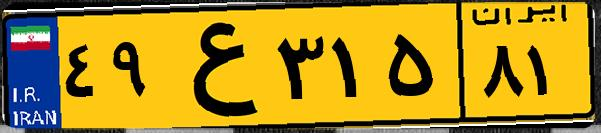1: (330, 28, 385, 110), (525, 38, 570, 115)
3: (270, 28, 330, 110)
4: (57, 26, 110, 100)
5: (385, 28, 445, 110)
8: (475, 38, 525, 113)
9: (110, 28, 158, 98)
ع: (158, 12, 270, 120)
